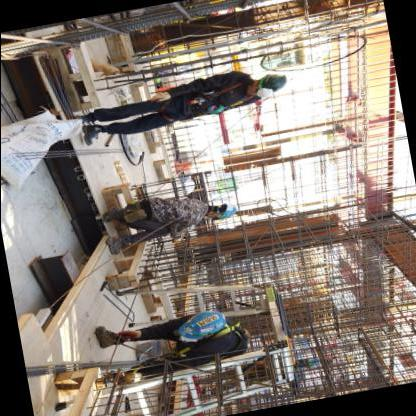safety-shoe: (91, 319, 132, 354), (78, 122, 105, 149), (100, 232, 127, 258)
